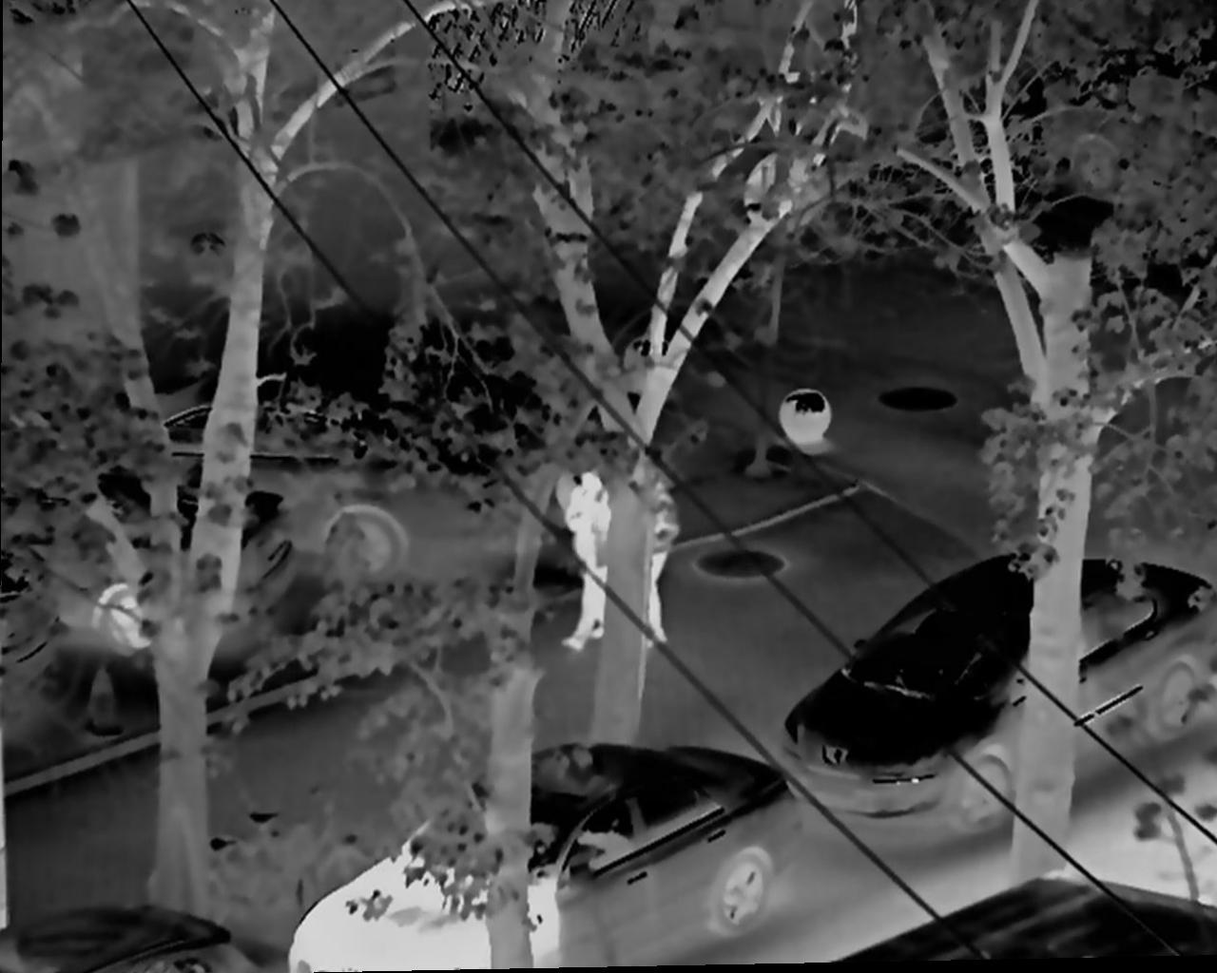person: (618, 447, 669, 651), (556, 463, 611, 647)
